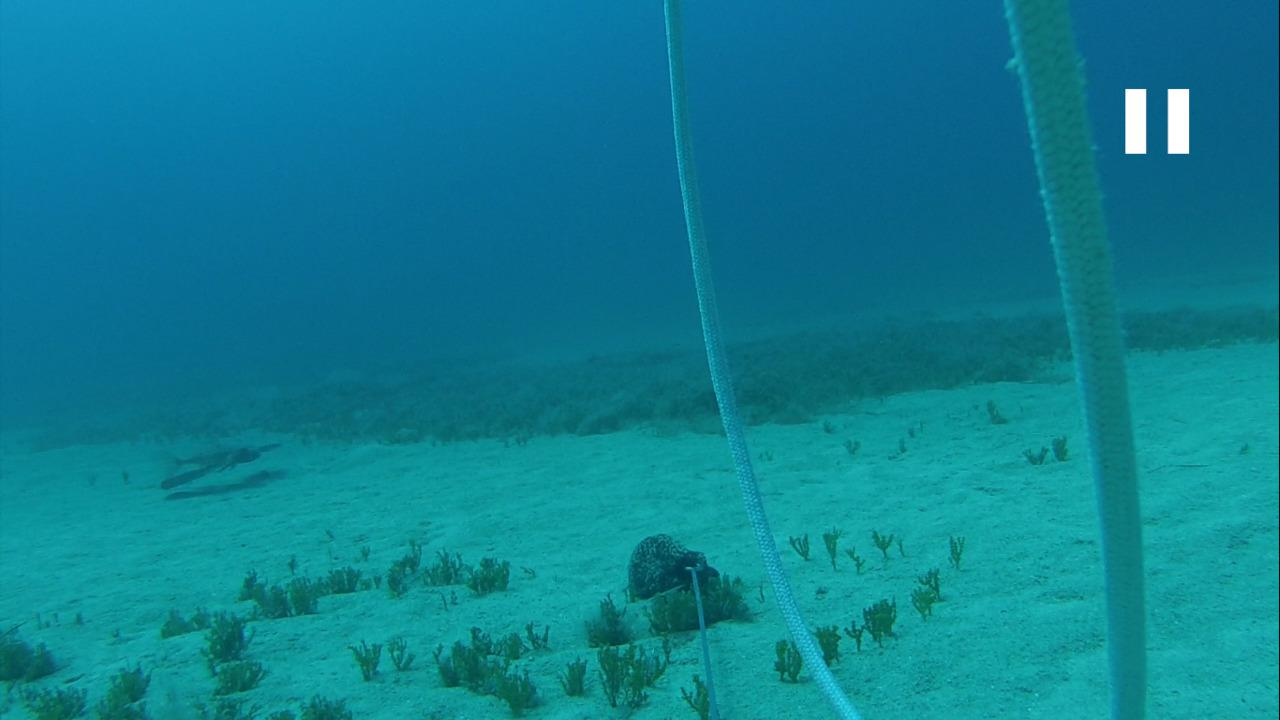dactylopterus: (135, 438, 277, 485)
